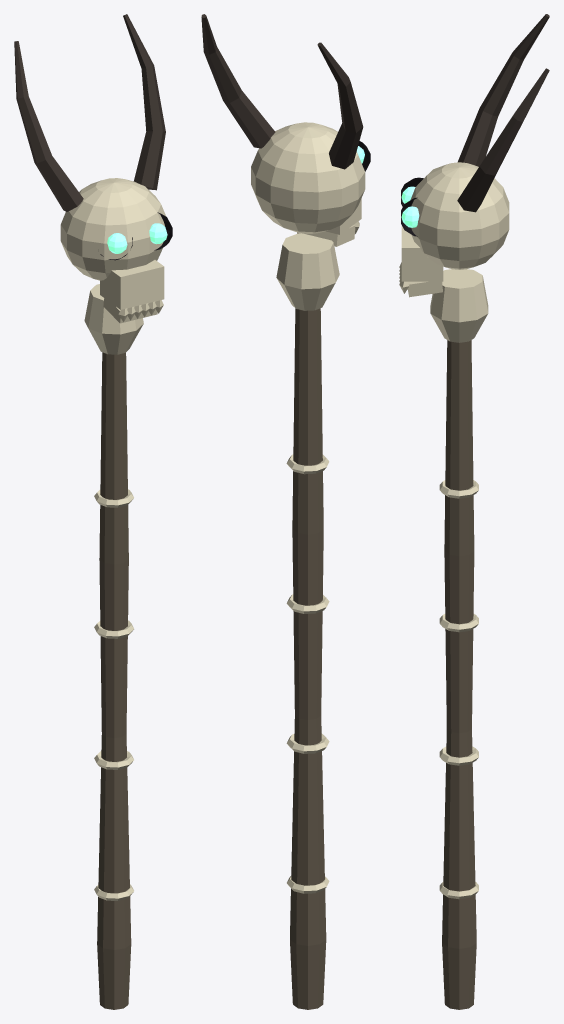
File: staff_skull.glb
3 views of the same model, side by side, from view 1: azimuth 30°, elevation 25°; view 2: azimuth 150°, elevation 25°; view 3: azimuth 270°, elevation 25° (orthographic). The views are drawn at different scales.
Visible parts, largest first — view 1: Skl_Shaft, Skl_Cranium, Skl_Horn1, Skl_Horn0, Skl_Snout, Skl_Socket, Skl_Knot1; view 2: Skl_Shaft, Skl_Cranium, Skl_Socket, Skl_Horn1, Skl_Horn0, Skl_Knot1, Skl_Jaw, Skl_Knot3, Skl_Knot2; view 3: Skl_Shaft, Skl_Cranium, Skl_Socket, Skl_Horn0, Skl_Horn1, Skl_Snout, Skl_Jaw, Skl_Knot1, Skl_Knot3, Skl_Knot2.
Boxes of the visible parts, box(x1,y1,x2,y2) form: Skl_Shaft: box(97, 352, 131, 1009); Skl_Cranium: box(60, 178, 166, 280); Skl_Horn1: box(123, 14, 165, 190); Skl_Horn0: box(14, 41, 83, 211); Skl_Snout: box(100, 260, 164, 309); Skl_Socket: box(84, 284, 143, 354); Skl_Knot1: box(94, 751, 133, 769); Skl_Shaft: box(290, 308, 326, 1009); Skl_Cranium: box(251, 122, 365, 233); Skl_Socket: box(276, 233, 339, 310); Skl_Horn1: box(201, 14, 275, 148); Skl_Horn0: box(317, 42, 363, 169); Skl_Knot1: box(286, 733, 329, 753); Skl_Jaw: box(297, 225, 355, 246); Skl_Knot3: box(286, 454, 329, 474); Skl_Knot2: box(286, 594, 329, 613); Skl_Shaft: box(442, 340, 476, 1009); Skl_Cranium: box(410, 162, 509, 269); Skl_Socket: box(430, 269, 488, 342); Skl_Horn0: box(458, 14, 549, 166); Skl_Horn1: box(457, 68, 549, 212); Skl_Snout: box(401, 226, 443, 281); Skl_Jaw: box(407, 281, 442, 297); Skl_Knot1: box(439, 746, 478, 765); Skl_Knot3: box(439, 480, 478, 498); Skl_Knot2: box(439, 614, 478, 632).
Bounding box in the file's own units: 0.3272 × 2.16 × 0.3065.
